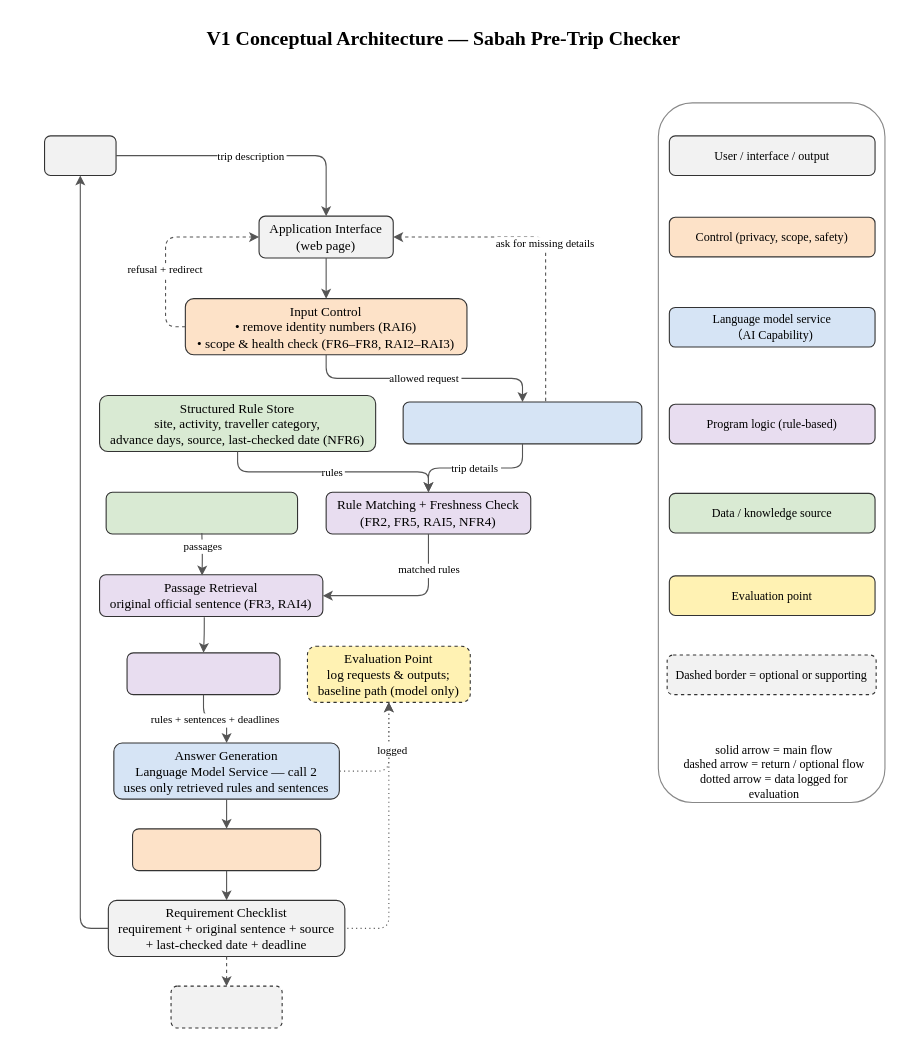
The diagram is 904 pixels wide and 1047 high, and some of its shapes have lost their labels. The box of each missing label's shape, as (x1, y1, x2, y2) in pixels:
Calendar Export (FR9, Should): (170, 985, 282, 1028)
Deadline Calculator rule-based (FR4, NFR3): (126, 652, 280, 695)
Legend: (657, 102, 885, 802)
Official Document Store processed text + source tracking: (105, 491, 298, 534)
Output Check health-advice boundary (RAI3): (131, 828, 321, 871)
Traveller: (43, 135, 116, 175)
Trip Detail Extraction Language Model Service — call 1 (FR1): (402, 401, 642, 444)
